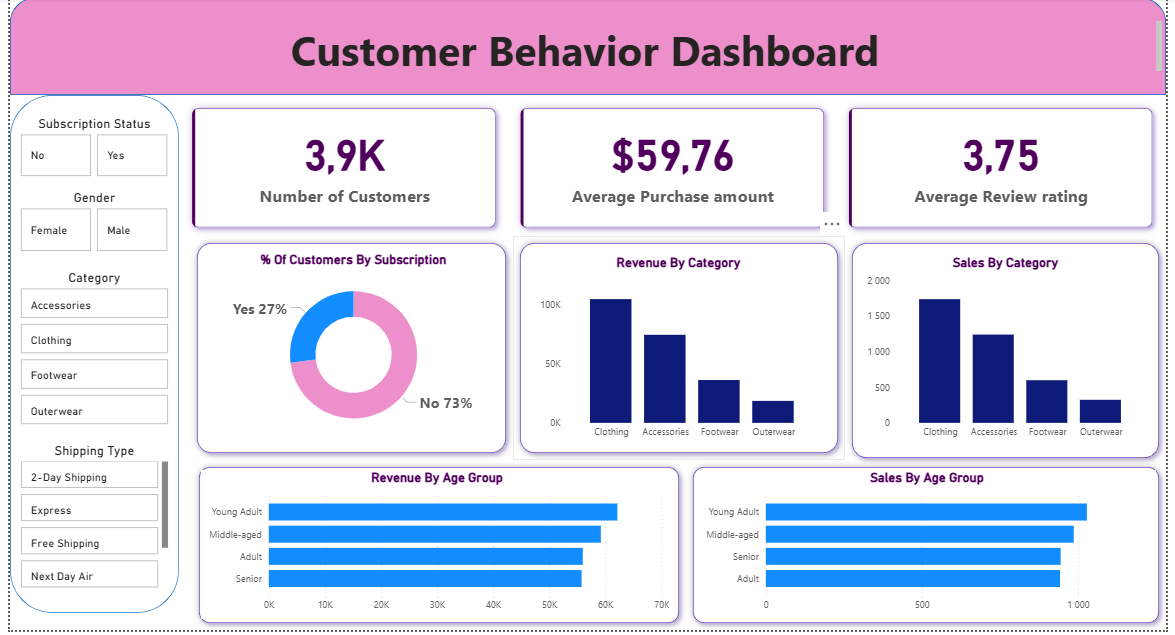

This screenshot's page, from the dashboard's own definition file:
{"tool":"powerbi","page":{"name":"Page 1","canvas":[1500,820],"ordinal":0},"visuals":[{"type":"cardVisual","fields":{"Data":["Query1.Number of Customers","Query1.Average Purchase amount","Query1.Average Review rating"]},"box":[219.3,125.9,1280.6,189.4],"z":0},{"type":"shape","box":[0,0,1499.9,125.9],"z":1000},{"type":"textbox","box":[0,24.7,1499.9,77.8],"z":2000},{"type":"shape","box":[233.5,308.8,419.1,290.6],"z":3000},{"type":"donutChart","title":"% Of Customers By Subscription","fields":{"Category":["Query1.subscription_status"],"Y":["CountNonNull(Query1.customer_id)"]},"box":[259.5,329.6,372.4,247.8],"z":4000},{"type":"shape","box":[652.6,308.8,430.8,290.6],"z":5000},{"type":"shape","box":[1083.4,308.8,416.5,297.1],"z":6000},{"type":"clusteredColumnChart","title":"Revenue By Category","fields":{"Y":["Sum(Query1.purchase_amount)"],"Category":["Query1.category"]},"box":[682.5,333.4,369.8,247.8],"z":7000},{"type":"clusteredColumnChart","title":"Sales By Category","fields":{"Y":["CountNonNull(Query1.customer_id)"],"Category":["Query1.category"]},"box":[1106.7,333.4,369.8,247.8],"z":8000},{"type":"shape","box":[0,125.9,219.3,672.1],"z":9000},{"type":"advancedSlicerVisual","title":"Subscription Status","fields":{"Values":["Query1.subscription_status"]},"box":[9.1,153.1,201.1,83],"z":10000},{"type":"advancedSlicerVisual","fields":{"Values":["Query1.gender"]},"box":[9.1,249.1,201.1,84.3],"z":10001},{"type":"advancedSlicerVisual","fields":{"Values":["Query1.category"]},"box":[9.1,352.9,201.1,208.9],"z":10002},{"type":"advancedSlicerVisual","fields":{"Values":["Query1.shipping_type"]},"box":[9.1,577.4,201.1,193.3],"z":10003},{"type":"shape","box":[236.1,599.4,640.9,220.6],"z":10004},{"type":"clusteredBarChart","title":"Revenue By Age Group","fields":{"Y":["Sum(Query1.purchase_amount)"],"Category":["Query1.age_group"]},"box":[247.8,612.4,612.4,193.3],"z":10005},{"type":"shape","box":[877.1,599.4,622.8,220.6],"z":10006},{"type":"clusteredBarChart","title":"Sales By Age Group","fields":{"Y":["CountNonNull(Query1.customer_id)"],"Category":["Query1.age_group"]},"box":[892.7,612.4,594.2,193.3],"z":10007}]}

Visuals, with their boxes in screenshot pixels (x1, y1, x2, y2), scaled from the page's 1500x820 canvas onto the 1175x635 screenshot:
cardVisual - Query1.Number of Customers x Query1.Average Purchase amount: [172, 97, 1174, 244]
shape: [0, 0, 1174, 97]
textbox: [0, 19, 1174, 79]
shape: [183, 239, 511, 464]
"% Of Customers By Subscription" donutChart: [203, 255, 495, 447]
shape: [511, 239, 849, 464]
shape: [849, 239, 1174, 469]
"Revenue By Category" clusteredColumnChart: [535, 258, 824, 450]
"Sales By Category" clusteredColumnChart: [867, 258, 1157, 450]
shape: [0, 97, 172, 618]
"Subscription Status" advancedSlicerVisual: [7, 119, 165, 183]
advancedSlicerVisual - Query1.gender: [7, 193, 165, 258]
advancedSlicerVisual - Query1.category: [7, 273, 165, 435]
advancedSlicerVisual - Query1.shipping_type: [7, 447, 165, 597]
shape: [185, 464, 687, 634]
"Revenue By Age Group" clusteredBarChart: [194, 474, 674, 624]
shape: [687, 464, 1174, 634]
"Sales By Age Group" clusteredBarChart: [699, 474, 1165, 624]
